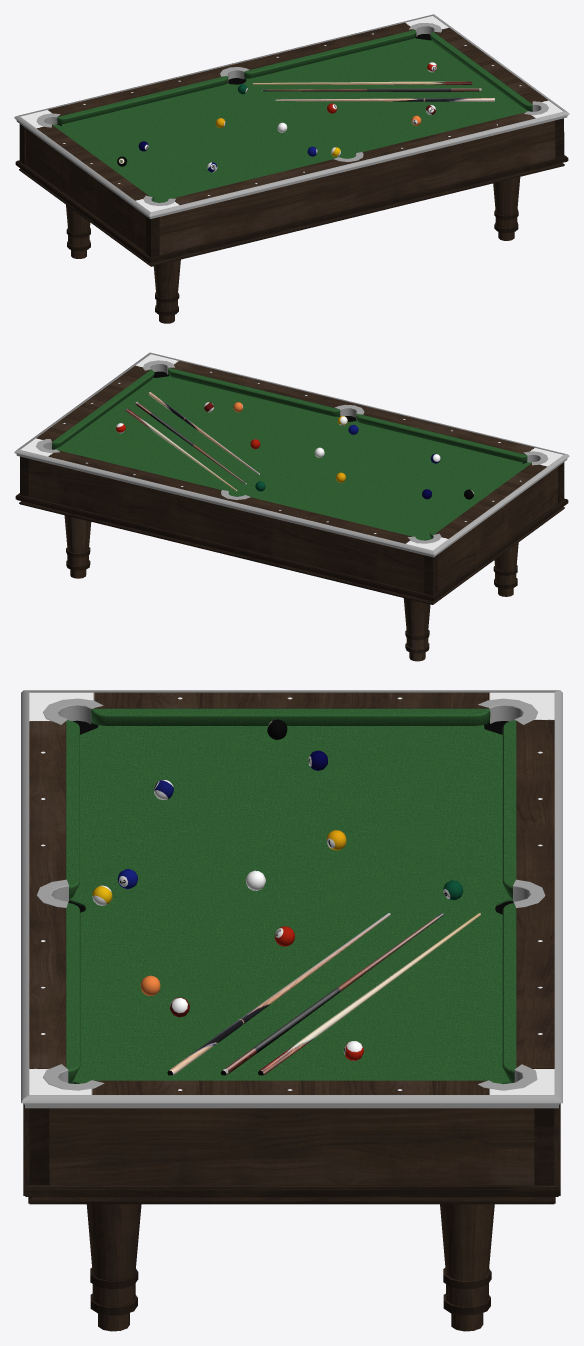
The model's file is billiard_table.glb.
3 renders of one model, top to bottom at view 1: azimuth 30°, elevation 25°; view 2: azimuth 150°, elevation 25°; view 3: azimuth 270°, elevation 25°, orthographic. The views are drawn at different scales.
Visible parts, largest first — view 1: Billiard_Wood_Material #26_0, Billiards_GreenBoard_Material #25_0, Billiard_Metal_lambert1_0, Billiard_Stick1_Material #39_0, Billiard_Stick2_Material #40_0, Billiard_Stick3_Material #41_0; view 2: Billiard_Wood_Material #26_0, Billiards_GreenBoard_Material #25_0, Billiard_Metal_lambert1_0, Billiard_Stick2_Material #40_0, Billiard_Stick1_Material #39_0, Billiard_Stick3_Material #41_0; view 3: Billiards_GreenBoard_Material #25_0, Billiard_Wood_Material #26_0, Billiard_Metal_lambert1_0, Billiard_Stick1_Material #39_0, Billiard_Stick2_Material #40_0, Billiard_Stick3_Material #41_0.
Boxes of the visible parts, x1,y1,x2,y2 form: Billiard_Wood_Material #26_0: (15, 16, 568, 323); Billiards_GreenBoard_Material #25_0: (53, 29, 532, 202); Billiard_Metal_lambert1_0: (14, 14, 569, 219); Billiard_Stick1_Material #39_0: (275, 98, 494, 101); Billiard_Stick2_Material #40_0: (262, 88, 481, 91); Billiard_Stick3_Material #41_0: (252, 81, 472, 84); Billiard_Wood_Material #26_0: (15, 354, 568, 661); Billiards_GreenBoard_Material #25_0: (52, 367, 531, 540); Billiard_Metal_lambert1_0: (14, 352, 569, 557); Billiard_Stick2_Material #40_0: (135, 402, 246, 484); Billiard_Stick1_Material #39_0: (148, 392, 259, 474); Billiard_Stick3_Material #41_0: (125, 408, 237, 491); Billiards_GreenBoard_Material #25_0: (66, 708, 516, 1084); Billiard_Wood_Material #26_0: (23, 692, 560, 1331); Billiard_Metal_lambert1_0: (21, 690, 562, 1108); Billiard_Stick1_Material #39_0: (167, 913, 390, 1075); Billiard_Stick2_Material #40_0: (220, 913, 443, 1075); Billiard_Stick3_Material #41_0: (258, 913, 480, 1075).
Bounding box in the file's own units: 2.74 × 0.8366 × 1.53.
Materials: 18 (17 with a texture image).
